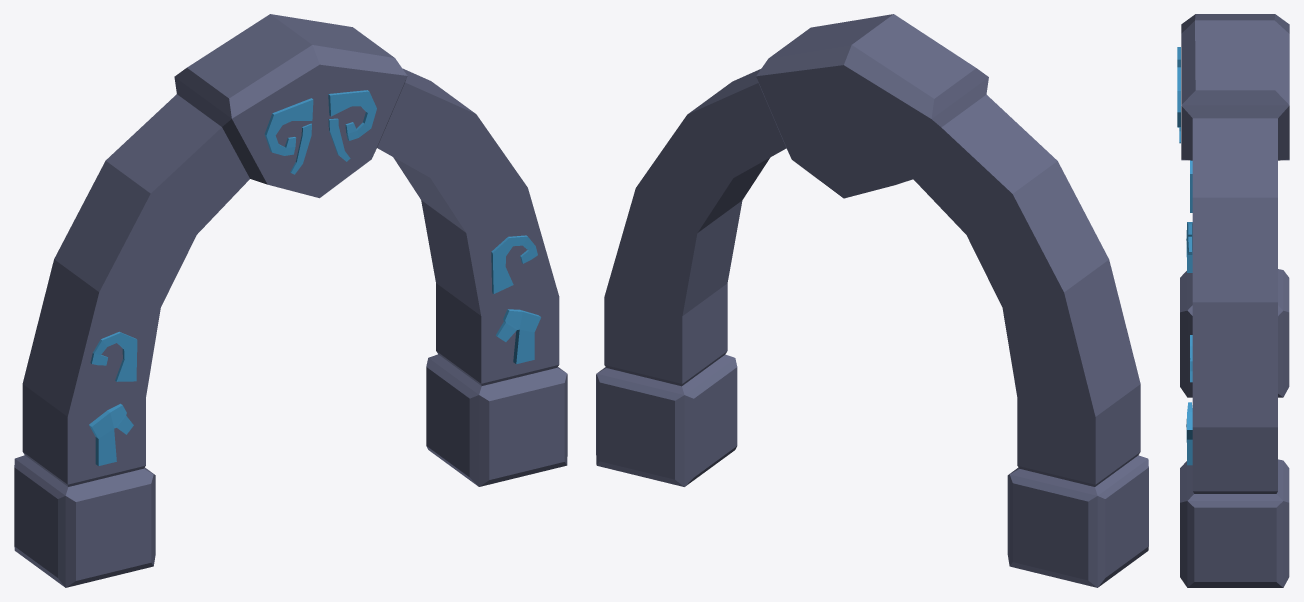
The model's file is blue_gate.fbx.
3 renders of one model, left to right at view 1: azimuth 30°, elevation 25°; view 2: azimuth 150°, elevation 25°; view 3: azimuth 270°, elevation 25°, orthographic. The views are drawn at different scales.
Parts seen in each view (by area): view 1: Cube; view 2: Cube; view 3: Cube.
Boxes of the visible parts, left/top/right/bottom form: Cube: left=14, top=14, right=567, bottom=587; Cube: left=596, top=14, right=1148, bottom=587; Cube: left=1177, top=14, right=1289, bottom=587.
Bounding box in the file's own units: 1352 × 1214 × 274.
